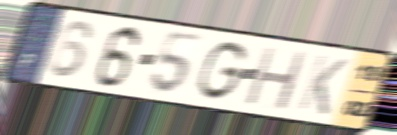5: (147, 28, 208, 98)
6: (94, 23, 145, 90), (48, 19, 96, 80)
G: (194, 39, 250, 103)
H: (241, 44, 311, 113)
K: (294, 52, 351, 119)
